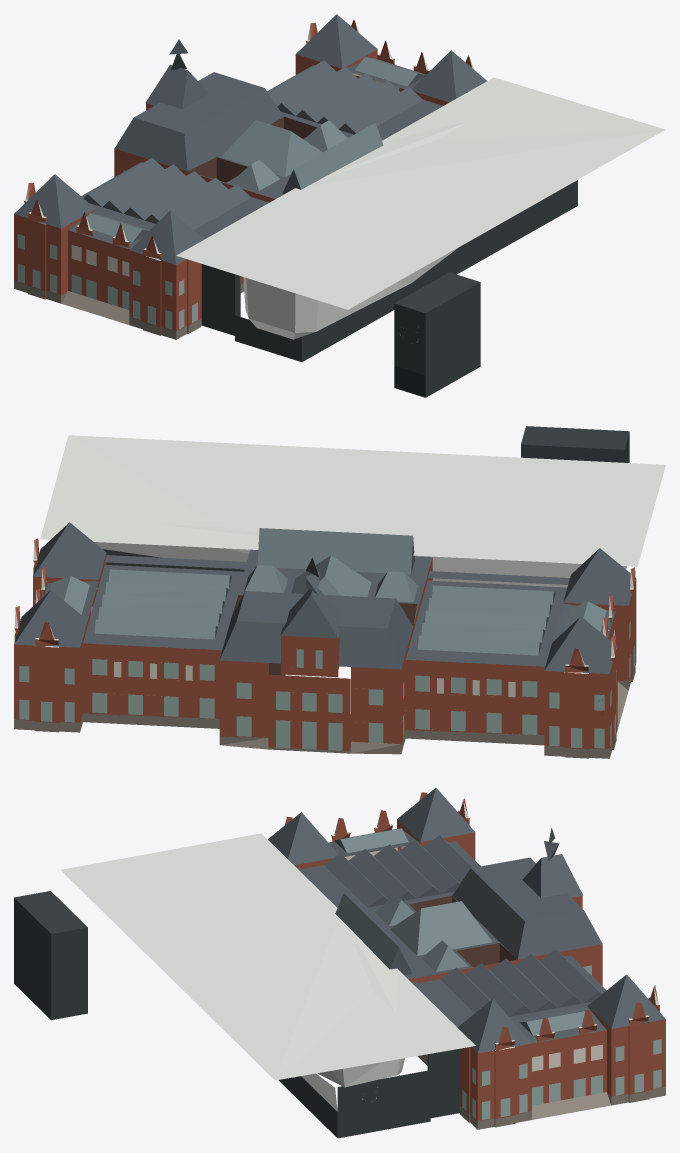
The model's file is stedelijk-museum.lod2.glb.
3 renders of one model, top to bottom at view 1: azimuth 30°, elevation 25°; view 2: azimuth 150°, elevation 25°; view 3: azimuth 270°, elevation 25°, orthographic. The views are drawn at different scales.
Visible parts, largest first — view 1: lod2; view 2: lod2; view 3: lod2.
Boxes of the visible parts, x1=… form: lod2: x1=14, y1=14, x2=665, y2=397; lod2: x1=14, y1=426, x2=665, y2=758; lod2: x1=14, y1=788, x2=665, y2=1138.
Size of the model in its own units: 123 by 33.71 by 121.
